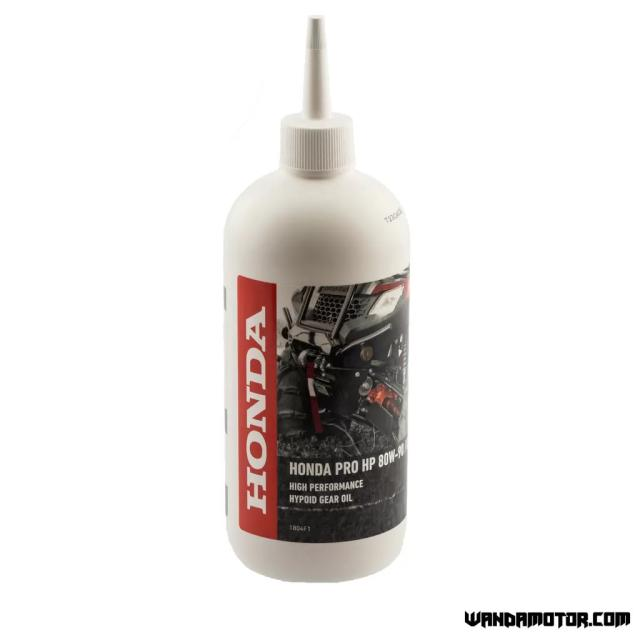-oil-: (217, 6, 424, 587)
